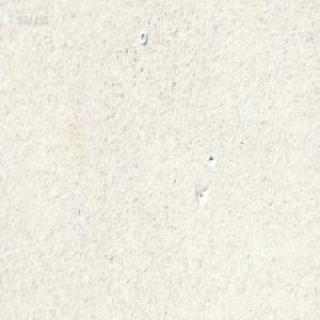Washertrack_idkeyframe: (138, 30, 146, 44)
